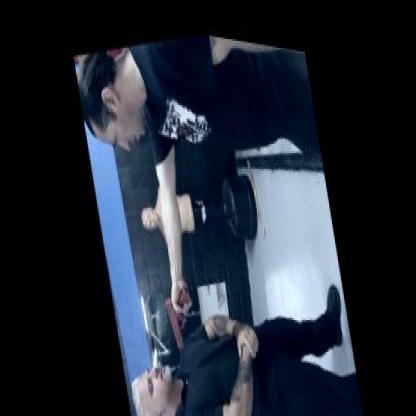pistol: (158, 274, 194, 348)
